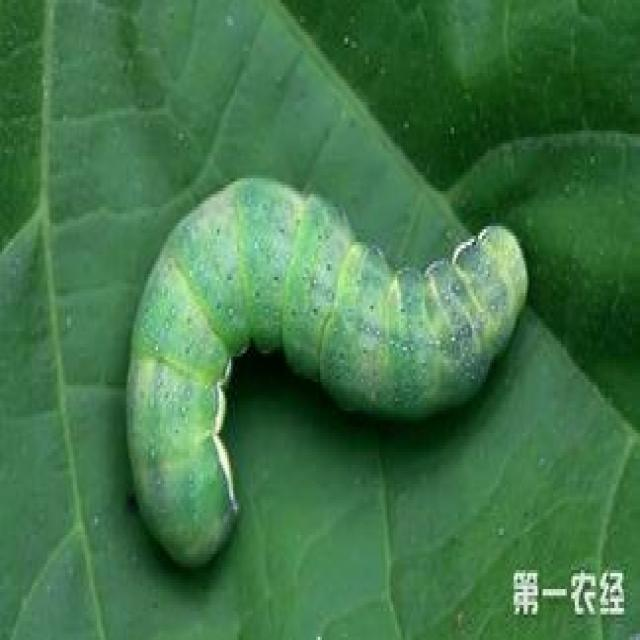BeetArmyWorm-Larva-: (115, 168, 532, 569)
